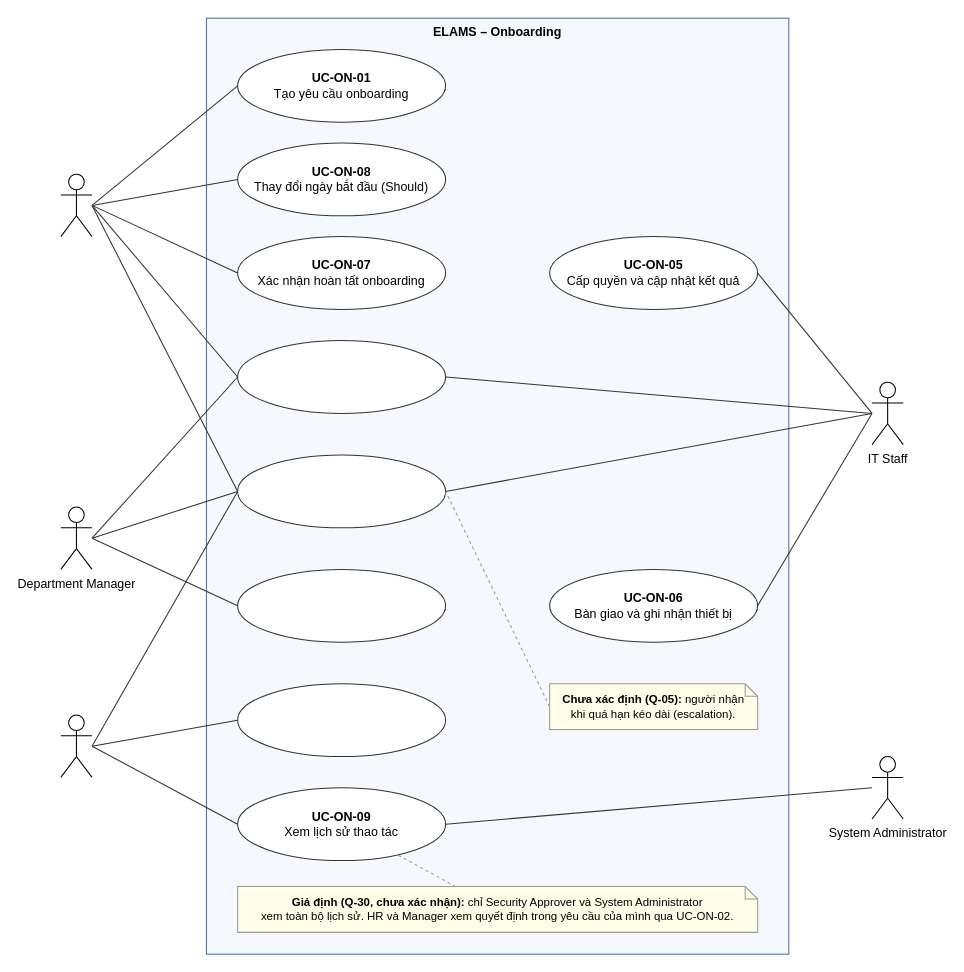
Image size: 964x972. Some labels were removed from this diagram. Each missing label, with the box of its shape:
HR Staff: (60, 173, 92, 237)
Security Approver: (60, 714, 92, 777)
UC-ON-02 Theo dõi tiến độ onboarding: (237, 340, 446, 413)
UC-ON-03 Xét duyệt nhu cầu quyền: (237, 568, 446, 642)
UC-ON-04 Xét duyệt quyền nhạy cảm: (237, 683, 446, 757)
UC-ON-10 Nhận cảnh báo quá hạn (Should): (237, 454, 446, 528)
